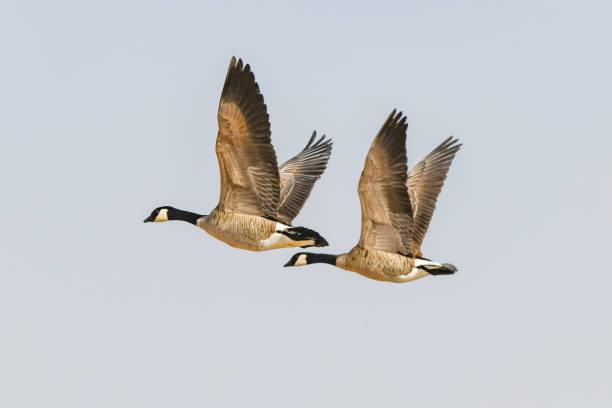Canadian-Goose: (138, 54, 331, 248)
